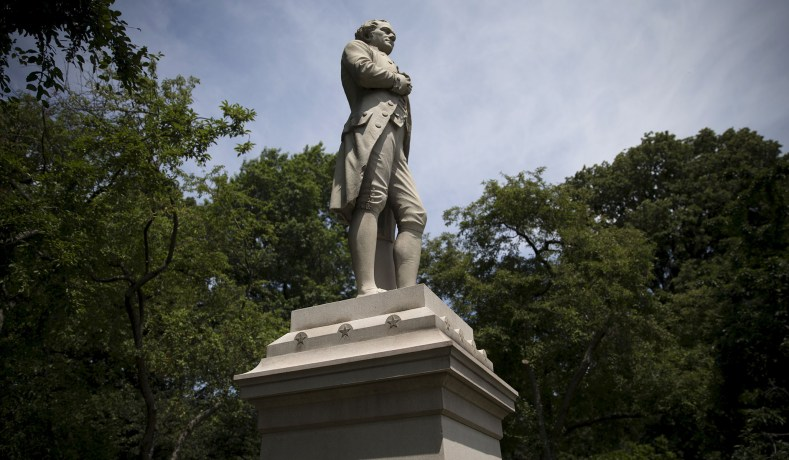person-like: (324, 15, 436, 300)
